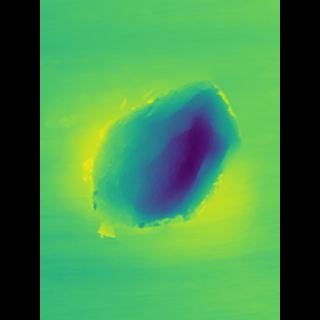Loch: (80, 74, 230, 239)
